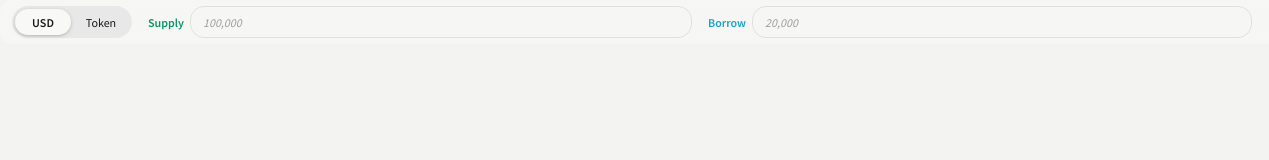
Test: ScenarioControls › Desktop › clears input when clear button is clicked
This screenshot has width=1269, height=160.
Type "5000" into the field named "Supply amount" at (441, 22), box [190,6,692,38]
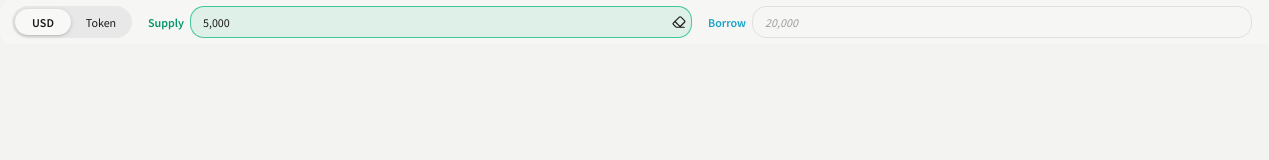
Click the button named "Clear supply amount" at (679, 22), box [670,13,688,31]
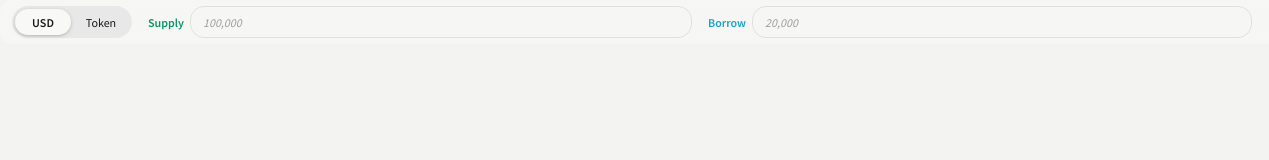
Result: the field named "Supply amount" is empty at [190,6,692,38]
